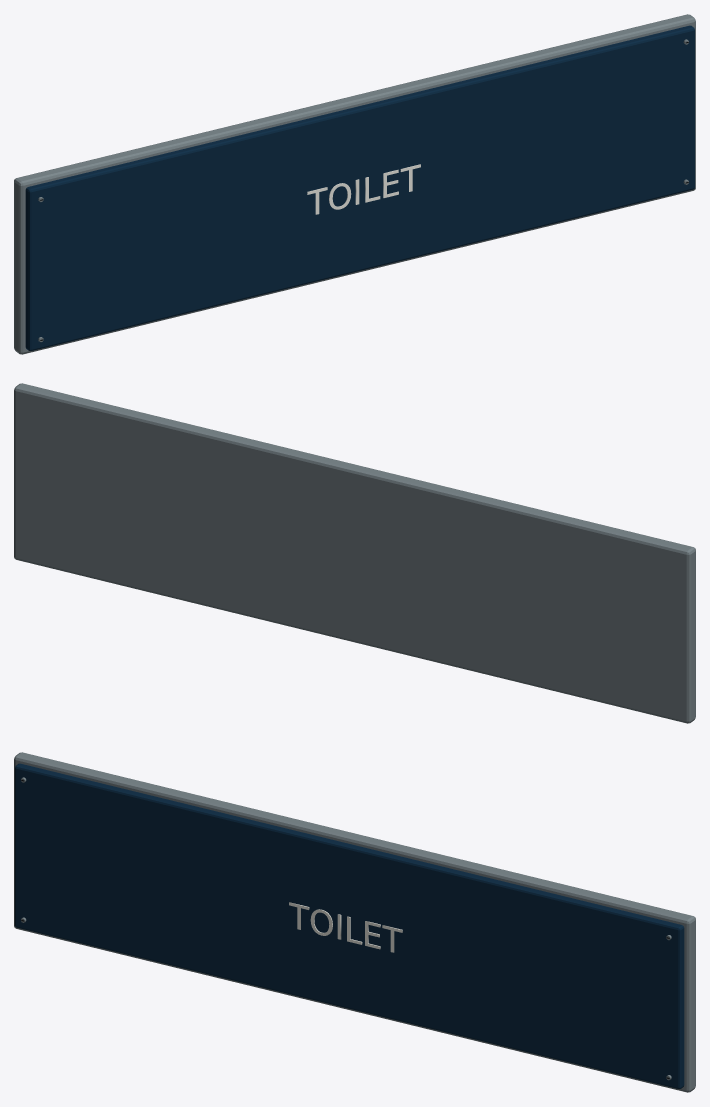
The model's file is OAA_Papan_Ruang_Toilet.fbx.
3 renders of one model, top to bottom at view 1: azimuth 30°, elevation 25°; view 2: azimuth 150°, elevation 25°; view 3: azimuth 330°, elevation 25°, orthographic.
Visible parts, largest first — view 1: Body; view 2: Body; view 3: Body.
Boxes of the visible parts, bbox=[...] form: Body: bbox=[14, 14, 695, 354]; Body: bbox=[14, 383, 695, 723]; Body: bbox=[14, 752, 695, 1092].
Size of the model in its own units: 0.9 by 0.22 by 0.0312.
